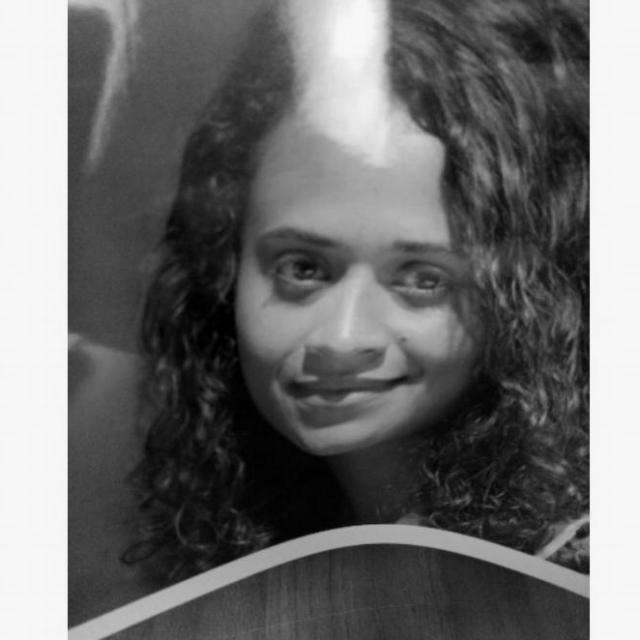fake: (72, 0, 588, 615)
